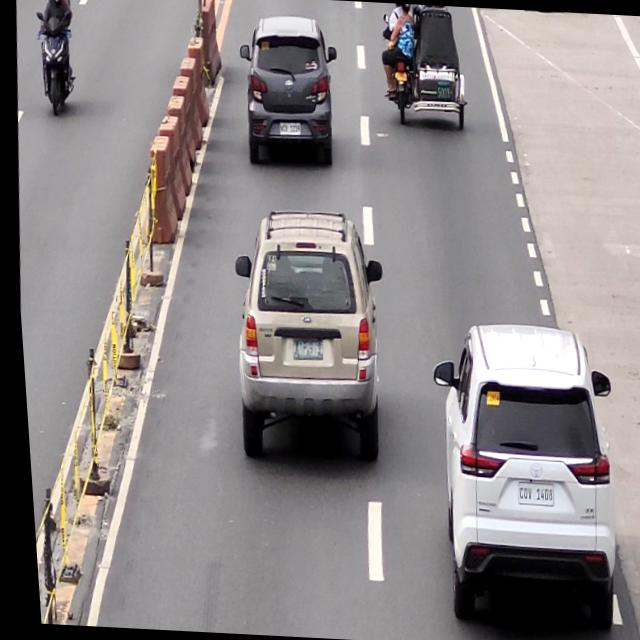Car: (414, 318, 622, 632), (218, 207, 391, 469), (232, 15, 343, 168)
License-Plate: (511, 482, 549, 508), (288, 339, 320, 362), (278, 120, 300, 136), (394, 71, 408, 82)
Tricycle: (377, 3, 470, 127)
